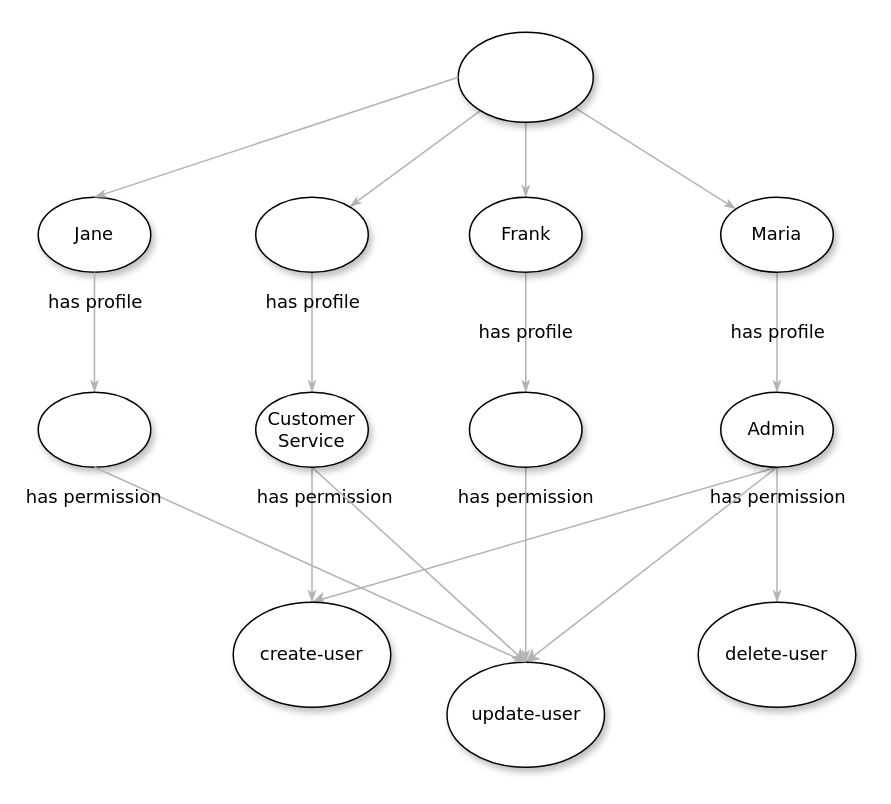
Some shapes in this 891 by 804 pixel diagram are drawn without their labels. The shapes that lost their labels are listed below. From the top down, each one's centre as x and y in pixels, then its label:
At [526,79]: "Users".
At [312,236]: "John".
At [95,431]: "Customer".
At [526,431]: "Team Lead".
